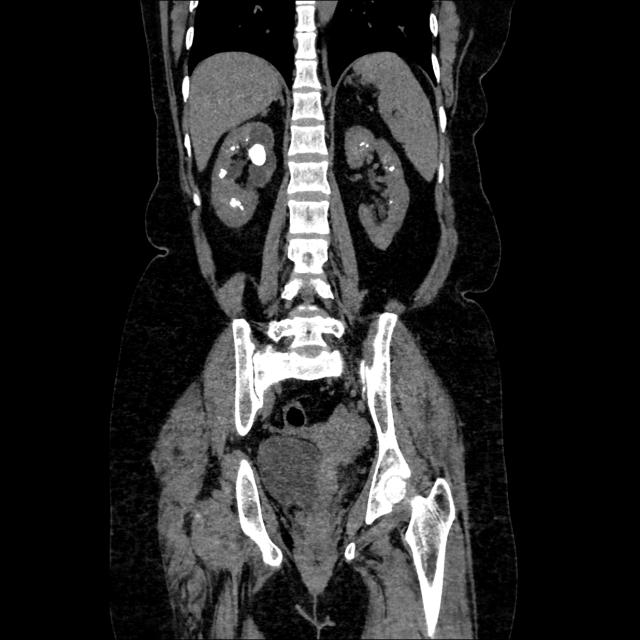kidney: (342, 123, 412, 252), (210, 115, 278, 232)
stone: (249, 141, 269, 172), (229, 196, 248, 215), (216, 169, 230, 182)
